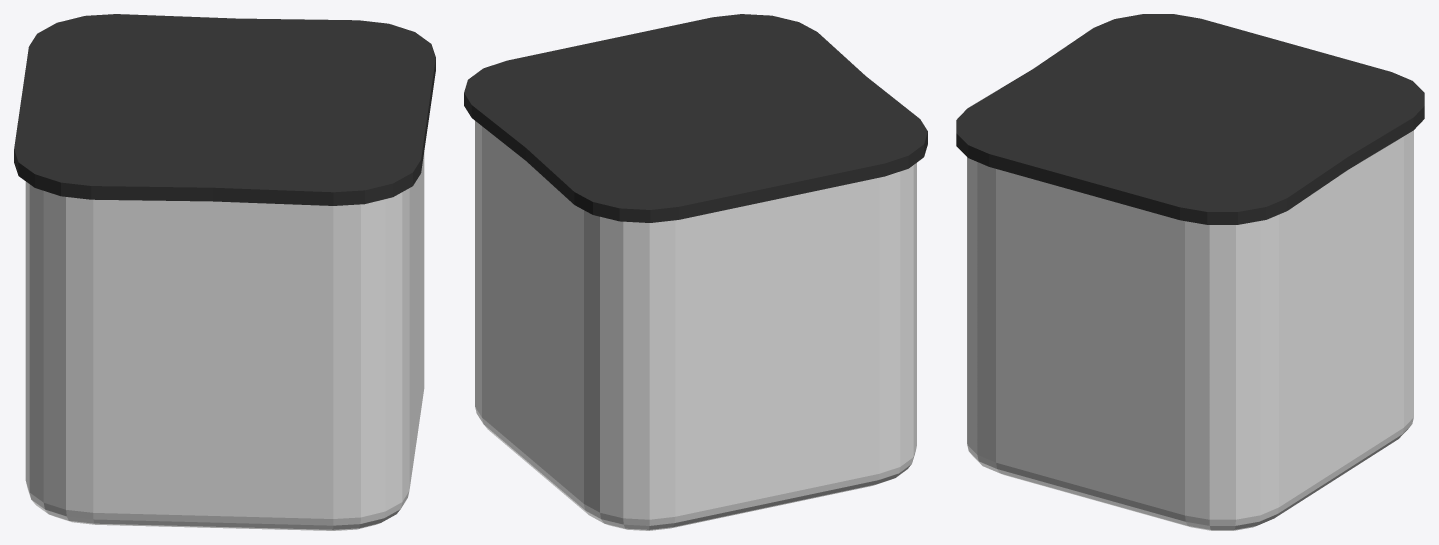
File: Salt con UV.fbx
3 renders of one model, left to right at view 1: azimuth 30°, elevation 25°; view 2: azimuth 150°, elevation 25°; view 3: azimuth 270°, elevation 25°, orthographic. The views are drawn at different scales.
Visible parts, largest first — view 1: Salt and Sugar cups.001; view 2: Salt and Sugar cups.001; view 3: Salt and Sugar cups.001.
Part boxes in pixels (x1,y1,x2,y2): Salt and Sugar cups.001: (14, 14, 435, 530); Salt and Sugar cups.001: (464, 14, 927, 530); Salt and Sugar cups.001: (956, 14, 1424, 530).
Size of the model in its own units: 70.39 by 54.75 by 70.39.
